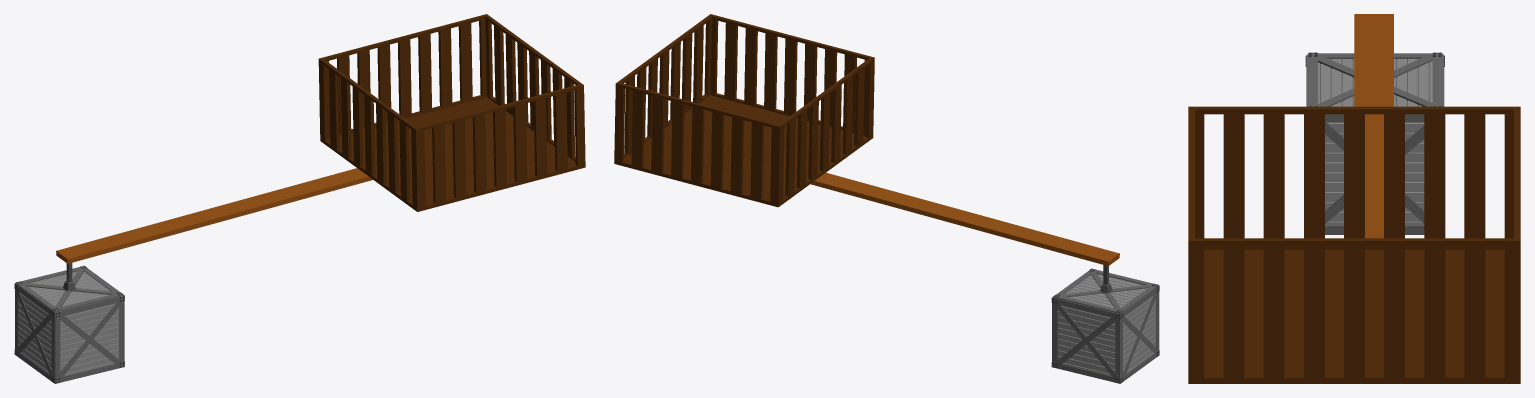
The model's file is Balanza.fbx.
3 views of the same model, side by side, from view 1: azimuth 30°, elevation 25°; view 2: azimuth 150°, elevation 25°; view 3: azimuth 270°, elevation 25° (orthographic). The views are drawn at different scales.
Parts seen in each view (by area): view 1: Cube.002, Cube.010, Cube.001; view 2: Cube.002, Cube.010, Cube.001; view 3: Cube.002, Cube.010, Cube.001.
Part boxes in pixels (bbox=[...]): Cube.002: bbox=[318, 14, 585, 211]; Cube.010: bbox=[14, 265, 124, 383]; Cube.001: bbox=[56, 168, 372, 263]; Cube.002: bbox=[614, 14, 874, 207]; Cube.010: bbox=[1051, 268, 1159, 383]; Cube.001: bbox=[810, 172, 1119, 266]; Cube.002: bbox=[1188, 106, 1520, 383]; Cube.010: bbox=[1305, 52, 1444, 234]; Cube.001: bbox=[1354, 14, 1393, 238].
Bounding box in the file's own units: 1488 × 583 × 504.
